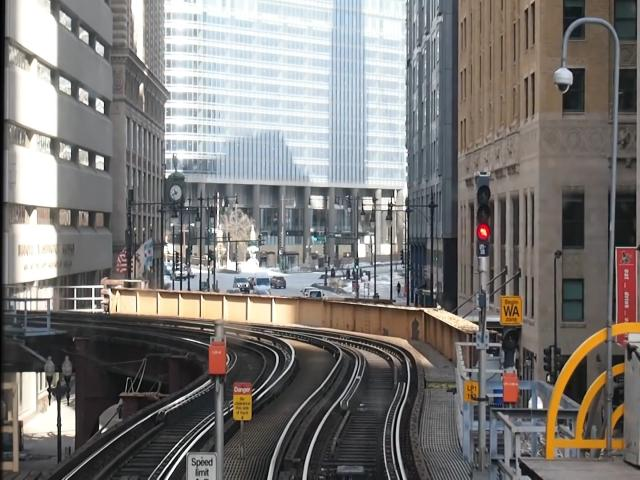signal light: (475, 183, 498, 257)
